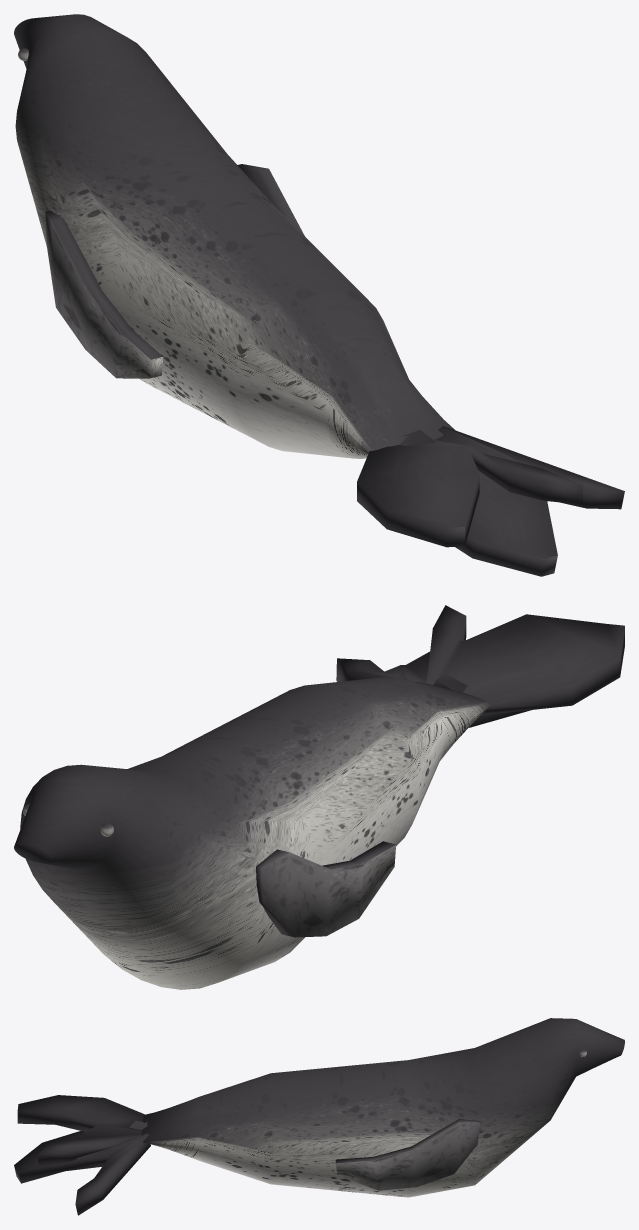
Rendered from seal.fbx.
3 renders of one model, top to bottom at view 1: azimuth 30°, elevation 25°; view 2: azimuth 150°, elevation 25°; view 3: azimuth 270°, elevation 25°, orthographic. The views are drawn at different scales.
Parts seen in each view (by area): view 1: Body; view 2: Body; view 3: Body.
Part boxes in pixels (x1,y1,x2,y2): Body: [14, 14, 624, 576]; Body: [14, 605, 624, 989]; Body: [14, 1018, 624, 1215].
Bounding box in the file's own units: 888 × 276 × 273.
